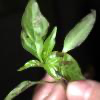Bell_pepper leaf spot: (17, 1, 51, 58), (42, 51, 89, 86), (4, 78, 38, 100)
